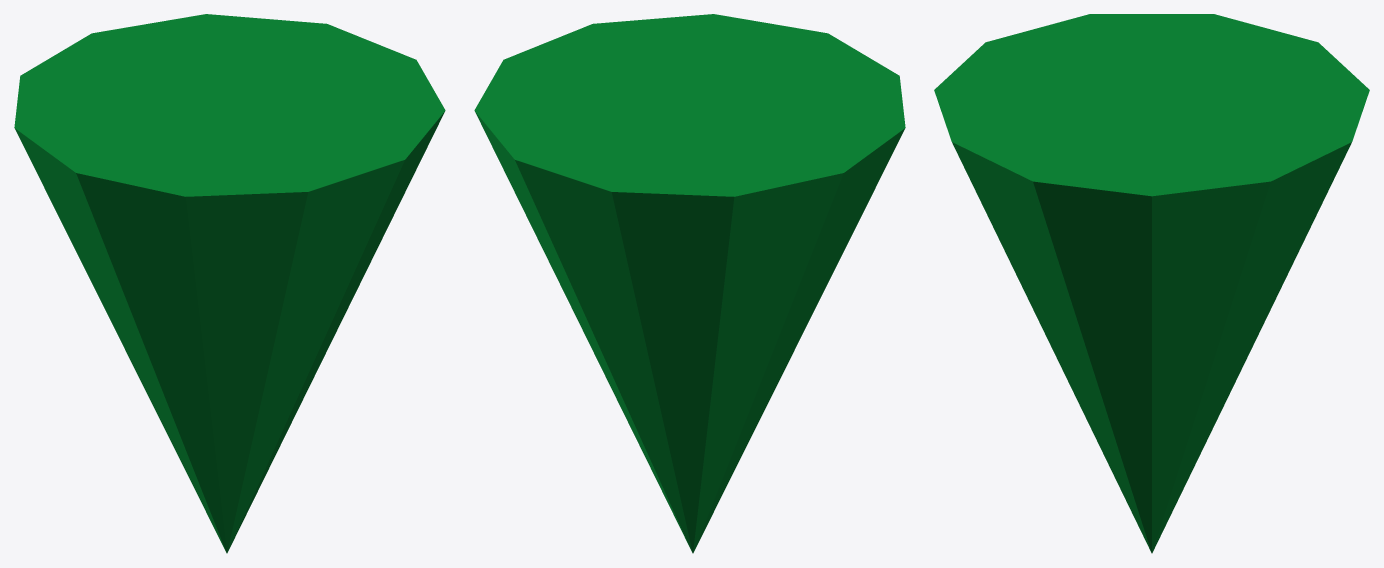
Rendered from Warp_aim.fbx.
3 renders of one model, left to right at view 1: azimuth 30°, elevation 25°; view 2: azimuth 150°, elevation 25°; view 3: azimuth 270°, elevation 25°, orthographic.
Visible parts, largest first — view 1: pCone1; view 2: pCone1; view 3: pCone1.
Part boxes in pixels (x1=…): pCone1: x1=14, y1=14, x2=445, y2=553; pCone1: x1=474, y1=14, x2=905, y2=553; pCone1: x1=934, y1=14, x2=1369, y2=553.
Size of the model in its own units: 21.22 by 24.47 by 21.44.
